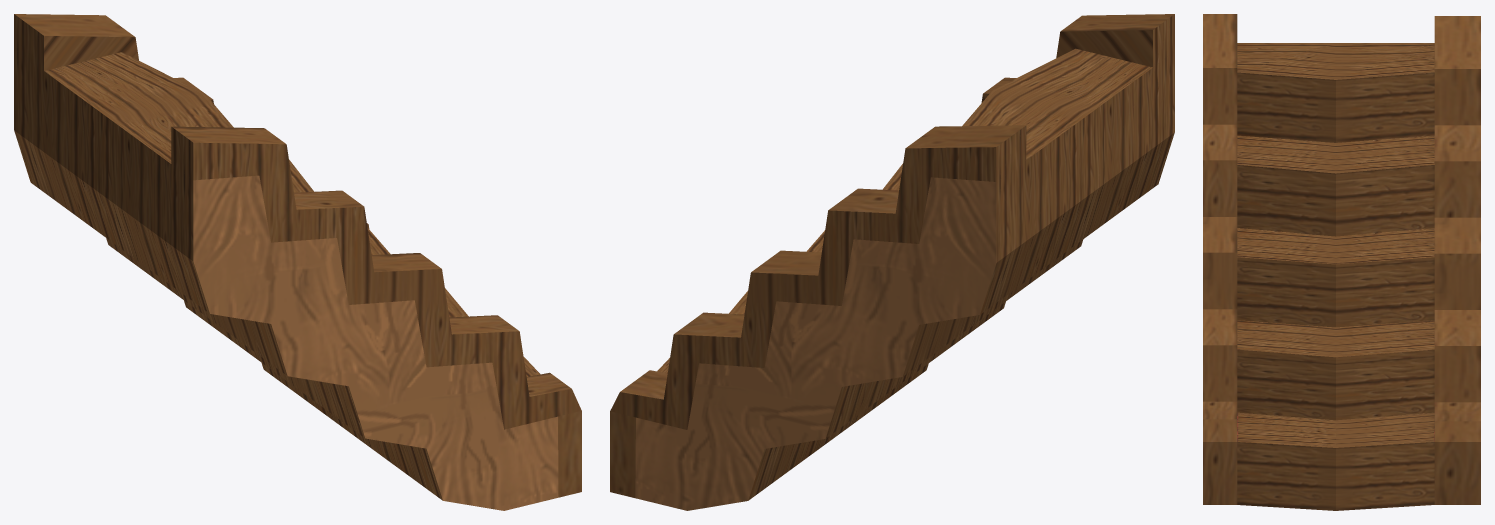
Rendered from stairs.fbx.
3 views of the same model, side by side, from view 1: azimuth 30°, elevation 25°; view 2: azimuth 150°, elevation 25°; view 3: azimuth 270°, elevation 25° (orthographic). The views are drawn at different scales.
Visible parts, largest first — view 1: stairs.001; view 2: stairs.001; view 3: stairs.001.
Part boxes in pixels (x1,y1,x2,y2): stairs.001: [14, 14, 581, 510]; stairs.001: [610, 14, 1174, 510]; stairs.001: [1203, 14, 1480, 510].
Size of the model in its own units: 548 by 575 by 421.
1 material, 1 textured.
